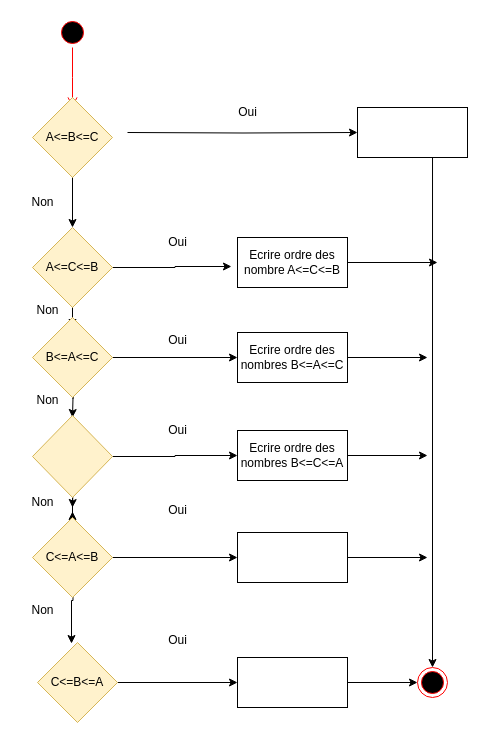
This 485x740 diagram has some shape labels left out. Here are the shapes that lost their labels. From the top down, the box of each, then its label:
(356, 106, 468, 158): Ecrire ordre des nombres = A<=B<=C
(32, 414, 112, 498): B<=C<=A
(236, 532, 348, 582): Ecrire ordre des nombres C<=A<=B
(236, 656, 348, 708): Ecrire ordre des nombres C<=B<=A
